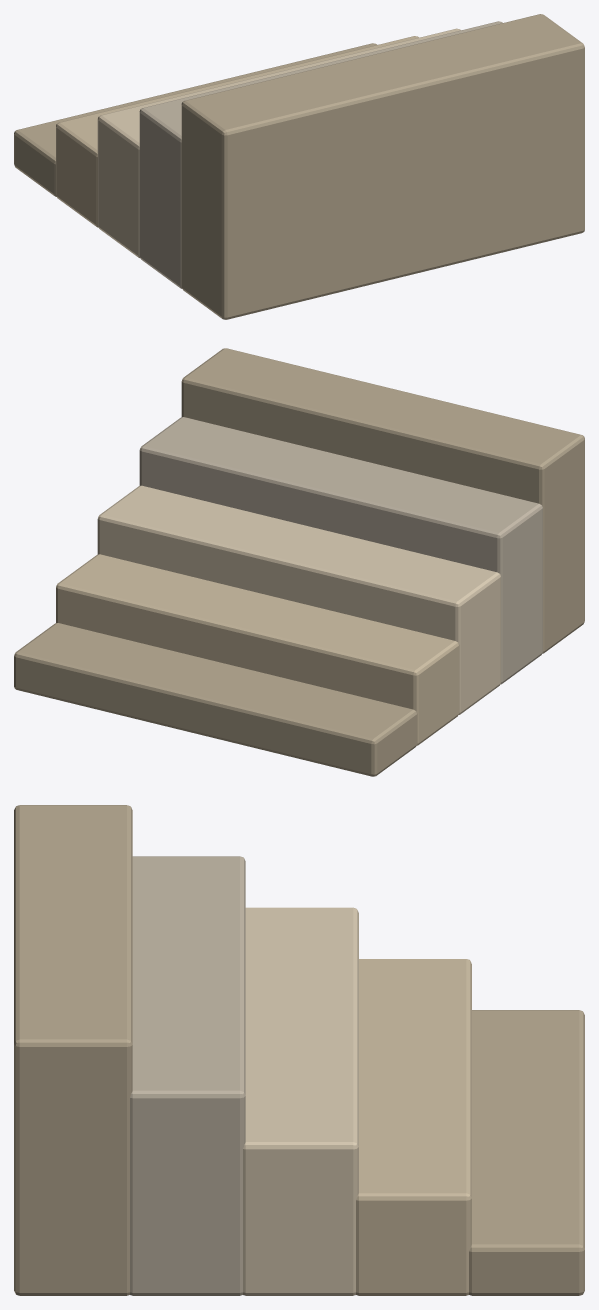
The model's file is stair.glb.
3 renders of one model, top to bottom at view 1: azimuth 30°, elevation 25°; view 2: azimuth 150°, elevation 25°; view 3: azimuth 270°, elevation 25°, orthographic. The views are drawn at different scales.
Parts seen in each view (by area): view 1: stair; view 2: stair; view 3: stair.
Part boxes in pixels (<box>): stair: <box>14,14,584,319</box>; stair: <box>14,348,584,776</box>; stair: <box>14,805,584,1295</box>.
Size of the model in its own units: 2 by 1 by 2.02.
